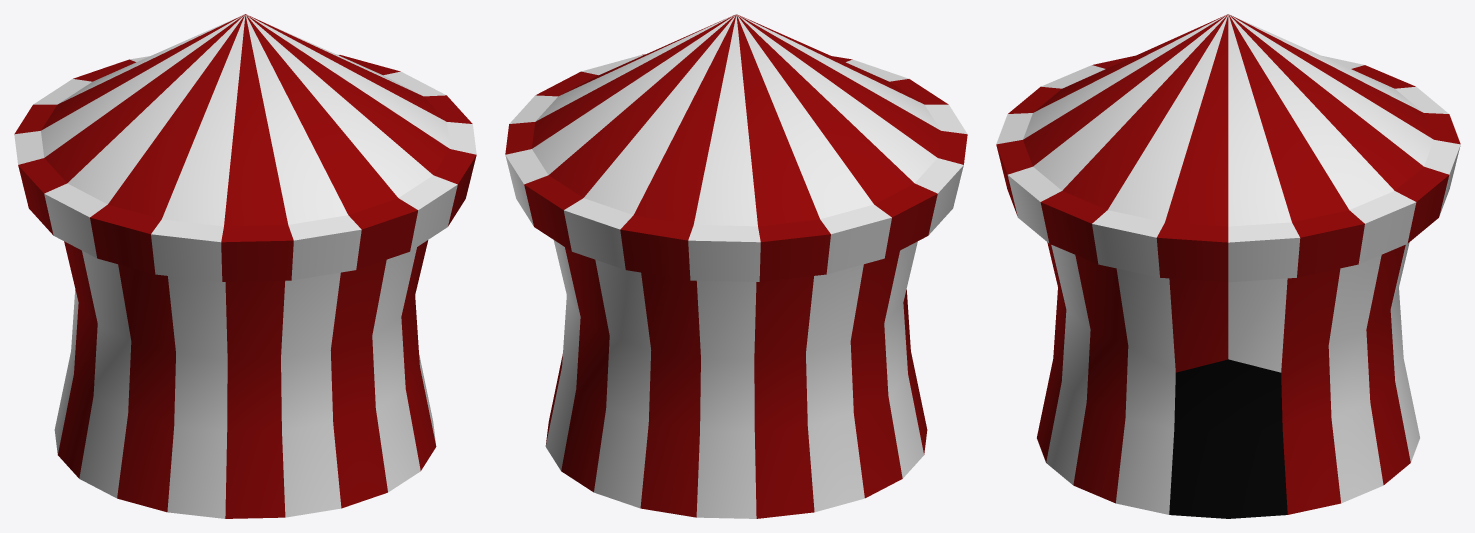
The model's file is circus_tent.fbx.
The picture shows the model from 3 angles, left to right: view 1: azimuth 30°, elevation 25°; view 2: azimuth 150°, elevation 25°; view 3: azimuth 270°, elevation 25°; orthographic projection.
Visible parts, largest first — view 1: pCylinder1; view 2: pCylinder1; view 3: pCylinder1.
Part boxes in pixels (left/top/right/bottom): pCylinder1: left=14, top=14, right=476, bottom=518; pCylinder1: left=505, top=14, right=967, bottom=518; pCylinder1: left=996, top=14, right=1460, bottom=518.
Size of the model in its own units: 6.71 by 6.76 by 6.71.
